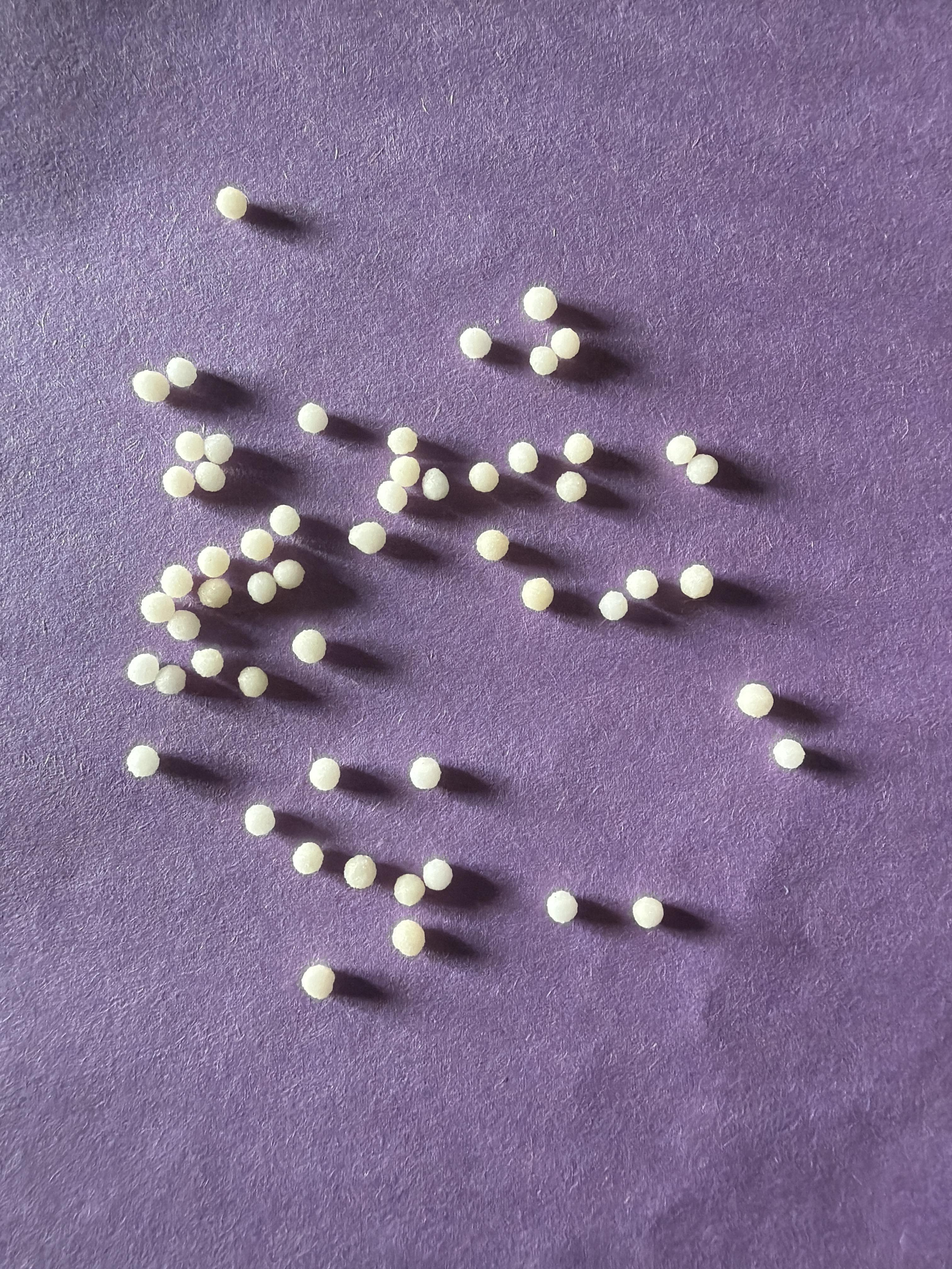pill: (736, 683, 774, 718), (348, 521, 386, 554), (392, 919, 425, 957), (301, 964, 335, 1000), (523, 286, 557, 321), (292, 629, 326, 664), (679, 564, 713, 599), (132, 371, 169, 403), (344, 854, 377, 889), (215, 186, 248, 220), (521, 578, 554, 612), (140, 592, 175, 624), (241, 528, 274, 561), (197, 545, 230, 578), (409, 756, 441, 790), (546, 890, 578, 923), (126, 745, 159, 777), (160, 565, 192, 598), (632, 896, 664, 929), (772, 738, 805, 770), (459, 327, 492, 359), (162, 466, 195, 498), (377, 480, 408, 514), (309, 757, 340, 791), (475, 530, 509, 561), (389, 454, 420, 488), (197, 577, 231, 608), (166, 611, 201, 641), (394, 874, 426, 906), (127, 653, 159, 685), (507, 441, 538, 474), (292, 842, 323, 875), (244, 804, 275, 836), (686, 454, 718, 485), (269, 504, 300, 536), (468, 461, 499, 493), (422, 859, 453, 891), (191, 648, 224, 678), (247, 571, 277, 604), (563, 433, 594, 464), (297, 403, 328, 434), (174, 431, 205, 462), (195, 461, 226, 492), (166, 357, 197, 388), (556, 471, 586, 503), (626, 569, 658, 599), (550, 327, 580, 359), (204, 433, 234, 464), (598, 590, 628, 621), (666, 434, 696, 465), (154, 665, 185, 695), (238, 667, 268, 698), (421, 468, 449, 501), (274, 559, 304, 589), (529, 345, 558, 376), (387, 426, 417, 455)
